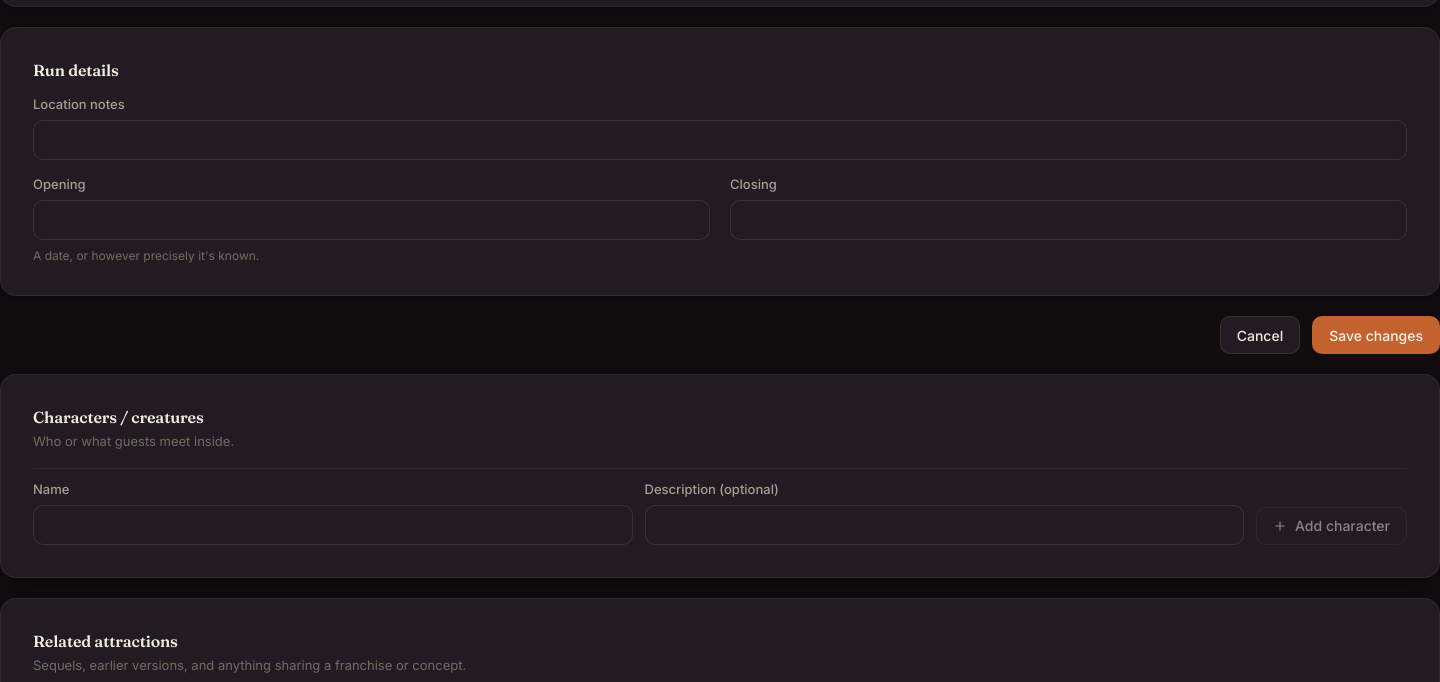
Scenario: AttractionEditor › validation › will not save without a park
(page scrolled)
Click the button "Save changes".
click(1376, 335)  # box 1312,316 -> 1439,354
(page scrolled)
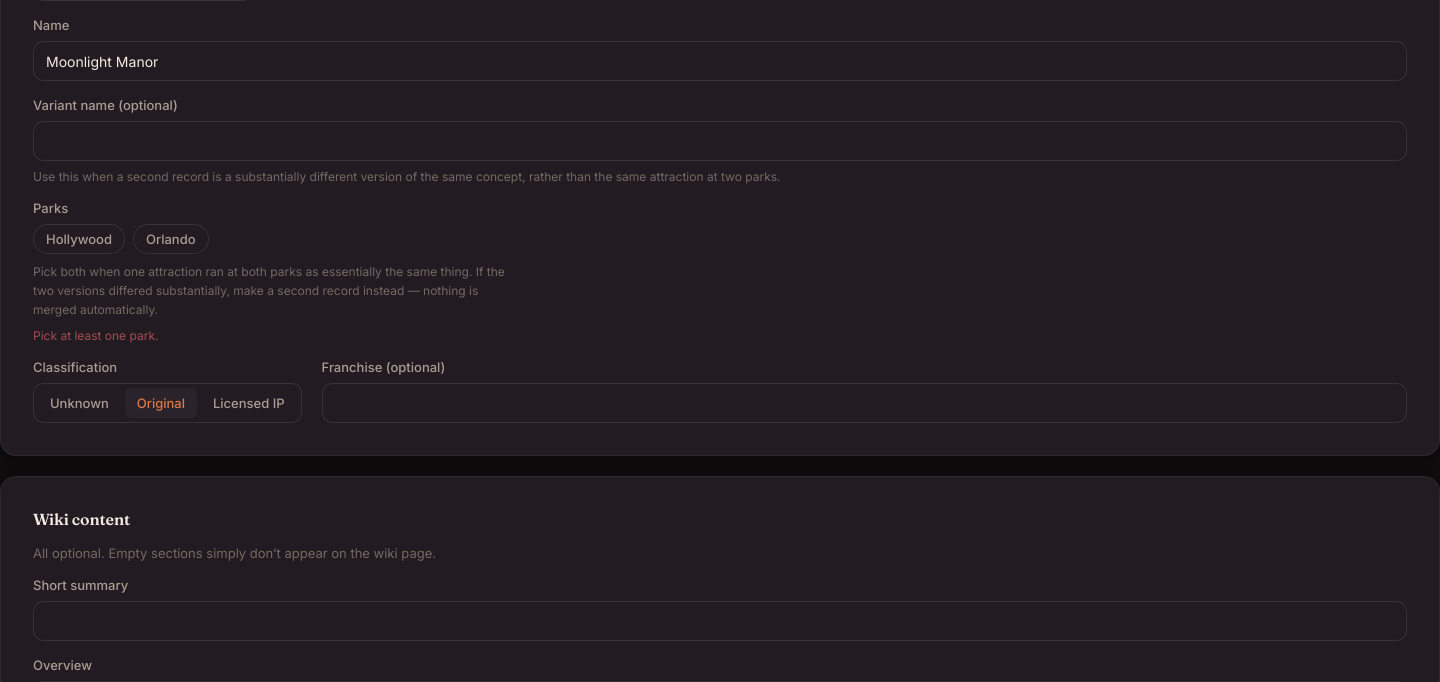
Check: the text "Pick at least one park." is shown, box 33,328 -> 158,343
